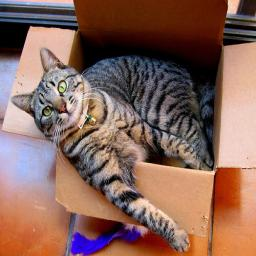catnose: (58, 101, 68, 115)
